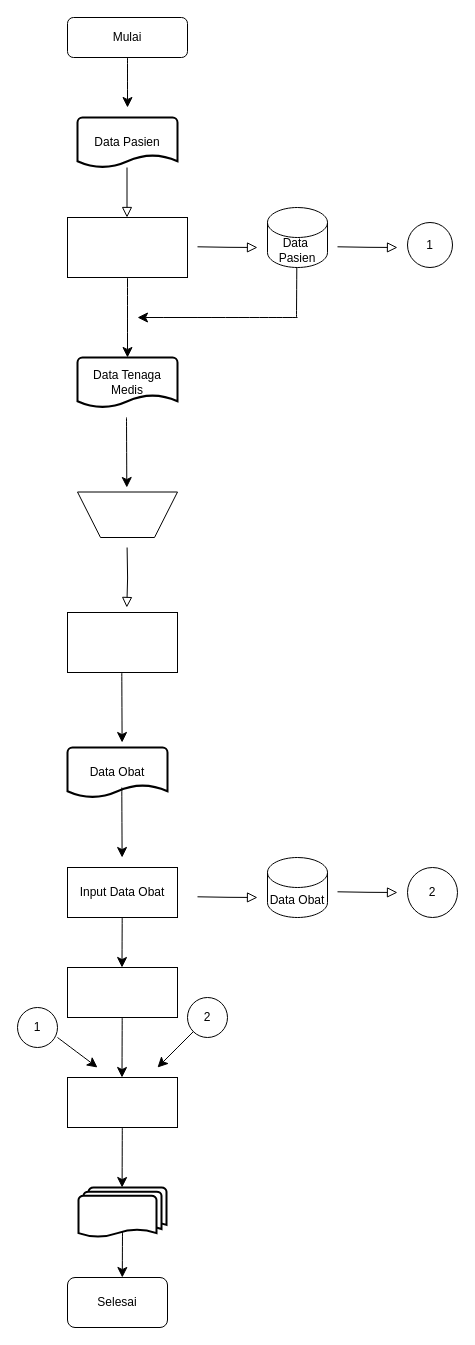
The diagram is 475 pixels wide and 1345 high, and some of its shapes have lost their labels. The centre of each missing label's shape, as x and y in pixels:
"Diagnosis dan Resep Obat" belongs at point (122, 642).
"Input Data Pasien" belongs at point (127, 247).
"Laporan" belongs at point (122, 1212).
"Pasien Bertemu Dokter" belongs at point (127, 514).
"Pembayaran" belongs at point (122, 992).
"Pembuatan Laporan" belongs at point (122, 1102).
